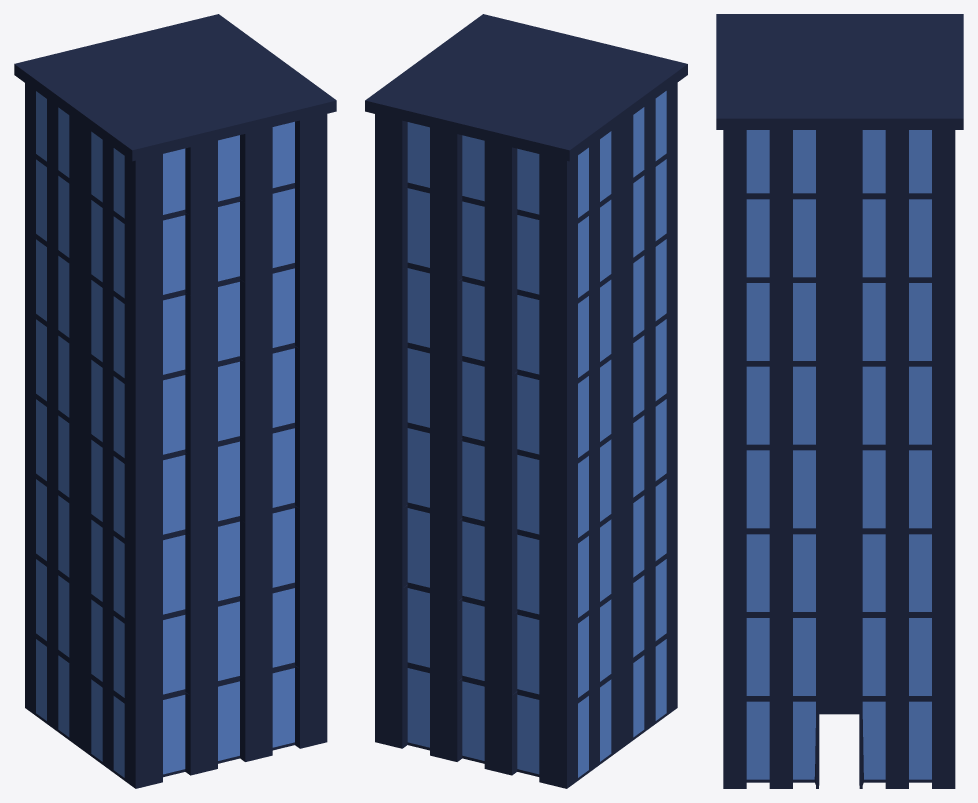
Rendered from skyscraper.fbx.
The picture shows the model from 3 angles, left to right: view 1: azimuth 30°, elevation 25°; view 2: azimuth 150°, elevation 25°; view 3: azimuth 270°, elevation 25°; orthographic projection. The views are drawn at different scales.
Visible parts, largest first — view 1: Cube.020; view 2: Cube.020; view 3: Cube.020.
Boxes of the visible parts, <box> form: Cube.020: <box>14,14,336,788</box>; Cube.020: <box>365,14,687,788</box>; Cube.020: <box>716,14,963,788</box>.
Size of the model in its own units: 350 by 1052 by 350.
